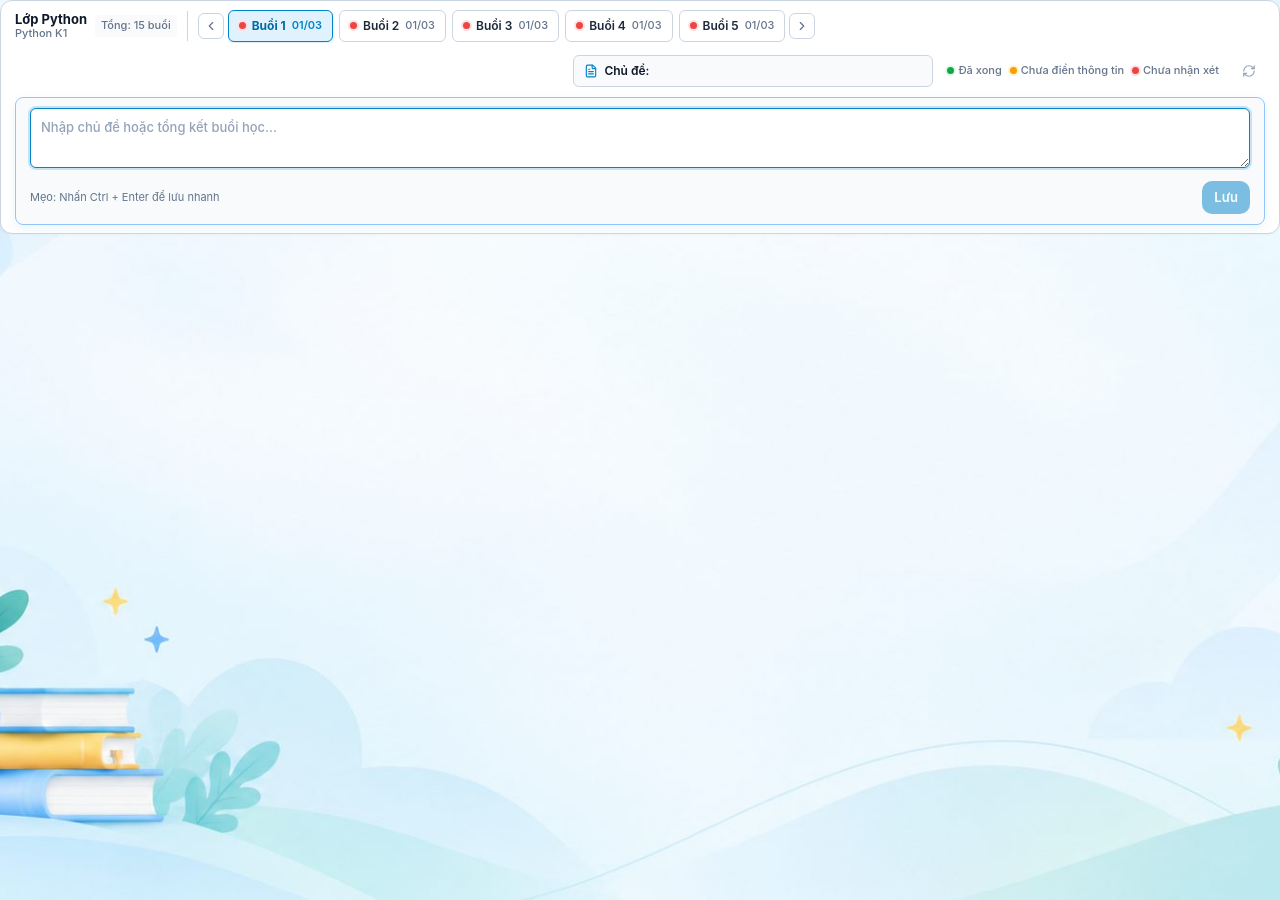
Test: SessionSelector topic editing and saving › shows the topic input immediately when the selected slot has no topic
This screenshot has width=1280, height=900.
Type "Làm quen với biến" into the text box with placeholder "Nhập chủ đề hoặc tổng kết buổi học...". click: (640, 138)
box: 30,108 -> 1250,168
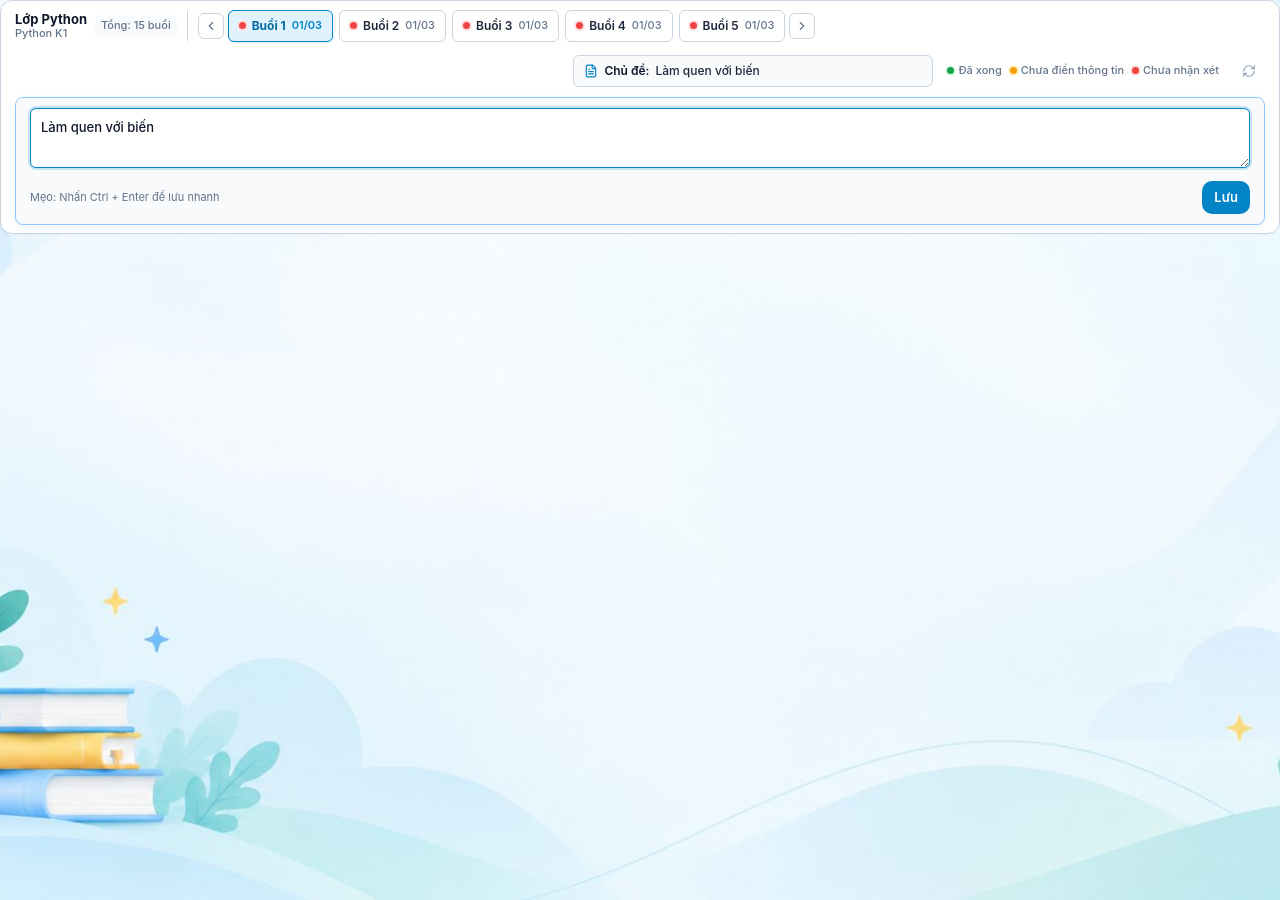
Click the button "Lưu". click: (1226, 198)
box: 1202,181 -> 1250,214
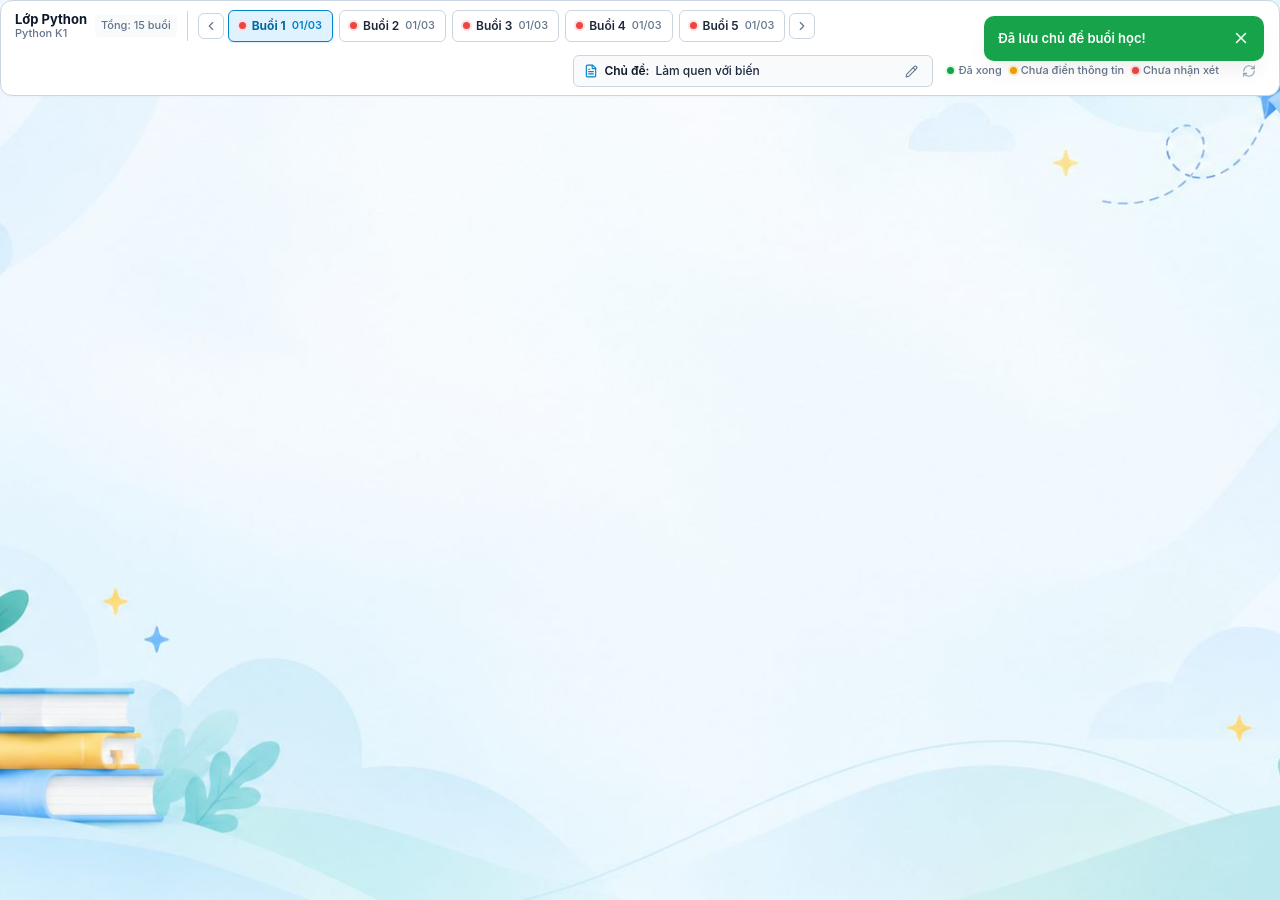
Expected: the field with placeholder "Nhập chủ đề hoặc tổng kết buổi học..." is not shown
Expected: the text "Làm quen với biến" is shown, 655,61 -> 760,81
Expected: the button named "Chỉnh sửa chủ đề" is shown, 900,60 -> 922,82
